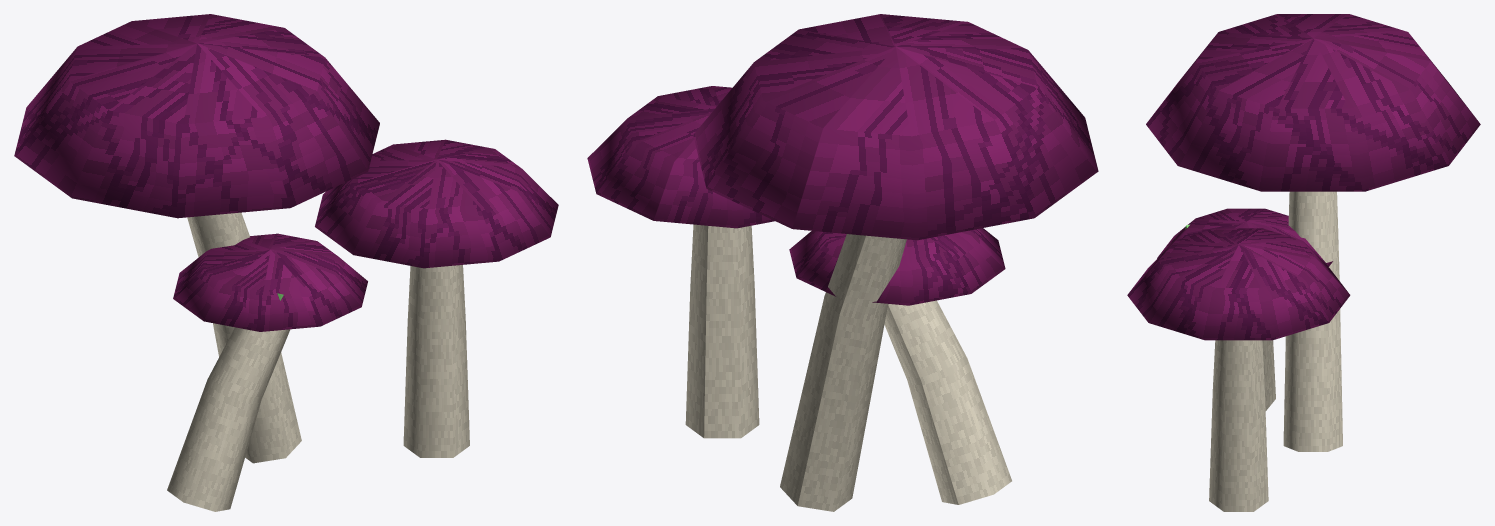
Rendered from item_mushroom.glb.
The picture shows the model from 3 angles, left to right: view 1: azimuth 30°, elevation 25°; view 2: azimuth 150°, elevation 25°; view 3: azimuth 270°, elevation 25°; orthographic projection. The views are drawn at different scales.
Visible parts, largest first — view 1: item_mushroom; view 2: item_mushroom; view 3: item_mushroom.
Part boxes in pixels (x1,y1,x2,y2): item_mushroom: (14,14,558,511); item_mushroom: (587,14,1098,511); item_mushroom: (1127,14,1480,511).
Bounding box in the file's own units: 0.1263 × 0.1139 × 0.095.
Materials: 3 (3 with a texture image).
